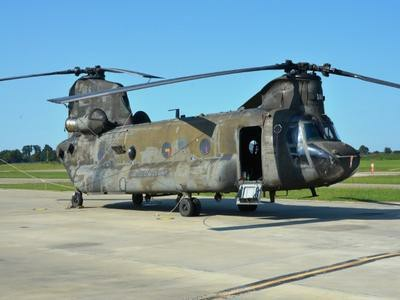chinook: (28, 51, 372, 223)
